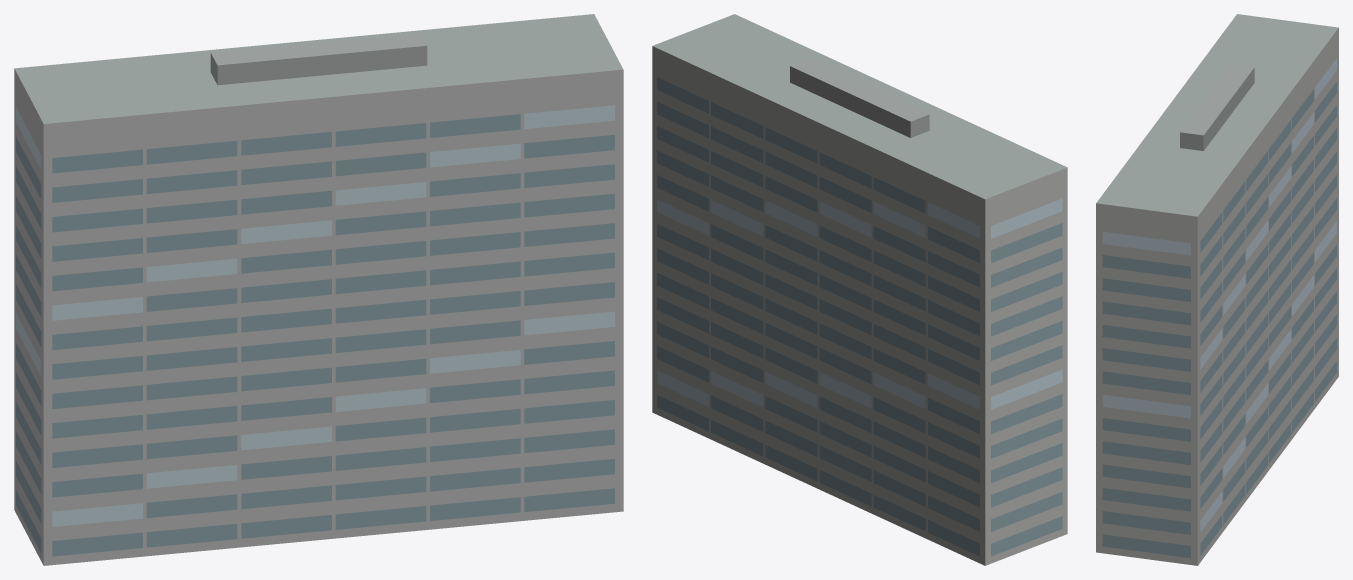
The model's file is fallback-olympic-park-foreon-321.glb.
3 renders of one model, left to right at view 1: azimuth 30°, elevation 25°; view 2: azimuth 150°, elevation 25°; view 3: azimuth 270°, elevation 25°, orthographic. The views are drawn at different scales.
Parts seen in each view (by area): view 1: fallback-olympic-park-foreon-321; view 2: fallback-olympic-park-foreon-321; view 3: fallback-olympic-park-foreon-321.
Boxes of the visible parts, x1=… form: fallback-olympic-park-foreon-321: x1=14, y1=14, x2=623, y2=565; fallback-olympic-park-foreon-321: x1=652, y1=14, x2=1067, y2=565; fallback-olympic-park-foreon-321: x1=1096, y1=14, x2=1338, y2=565.
Bounding box in the file's own units: 56.96 × 47.81 × 28.81.
